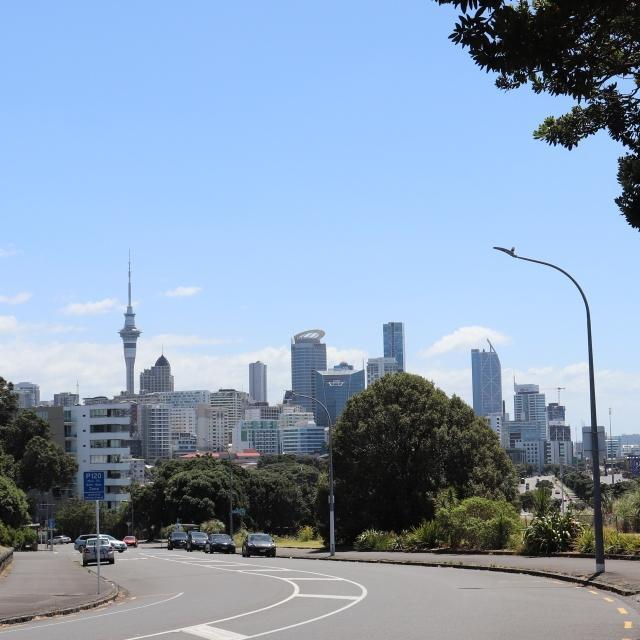curb: (281, 553, 639, 596), (0, 579, 121, 627)
